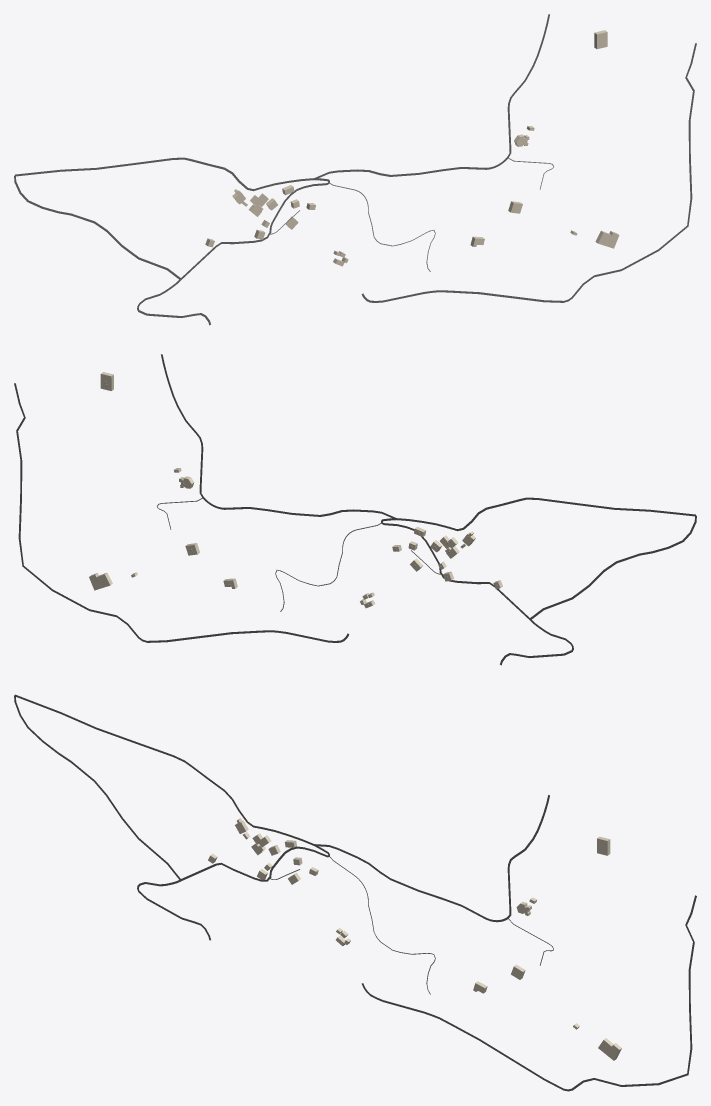
File: historic-palestine-10_37_3521_3310.glb
3 renders of one model, top to bottom at view 1: azimuth 30°, elevation 25°; view 2: azimuth 150°, elevation 25°; view 3: azimuth 330°, elevation 25°, orthographic.
Visible parts, largest first — view 1: Road, Road .002, Road .008, Road .006, Road .001; view 2: Road, Road .002, Road .008, Road .006; view 3: Road, Road .002, Road .008.
Part boxes in pixels (left/top/right/bottom): Road: left=361, top=43, right=696, bottom=302; Road .002: left=314, top=14, right=549, bottom=178; Road .008: left=15, top=157, right=314, bottom=191; Road .006: left=14, top=175, right=180, bottom=279; Road .001: left=180, top=178, right=329, bottom=279; Road: left=14, top=383, right=349, bottom=642; Road .002: left=161, top=354, right=396, bottom=518; Road .008: left=396, top=497, right=695, bottom=531; Road .006: left=530, top=515, right=696, bottom=619; Road: left=361, top=895, right=696, bottom=1091; Road .002: left=314, top=795, right=549, bottom=922; Road .008: left=15, top=694, right=314, bottom=845.
Size of the model in its own units: 1142 by 467 by 8.7.
